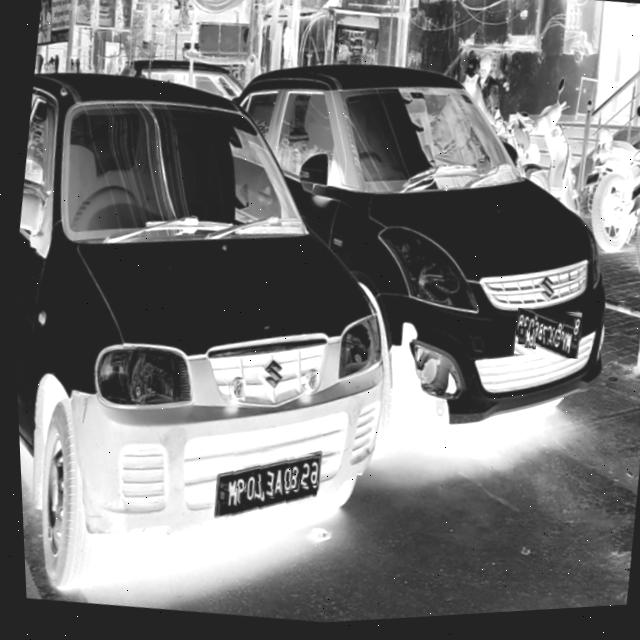0: (240, 479, 252, 505), (277, 470, 288, 495), (530, 332, 540, 353), (558, 327, 566, 347)
3: (562, 325, 573, 346)
5: (296, 465, 308, 491)
6: (552, 327, 562, 349)
7: (249, 475, 262, 504), (536, 332, 545, 353)
8: (286, 468, 298, 494), (568, 324, 578, 345)
9: (304, 464, 315, 490)
A: (268, 472, 279, 502)
B: (547, 329, 557, 351)
C: (542, 331, 552, 351)
E: (257, 473, 272, 501)
IND: (212, 483, 224, 503), (513, 332, 523, 351)
Indian_registered: (212, 459, 316, 519), (513, 316, 576, 366)
M: (220, 482, 233, 511), (520, 336, 528, 355)
P: (230, 481, 243, 508), (524, 333, 534, 356)
